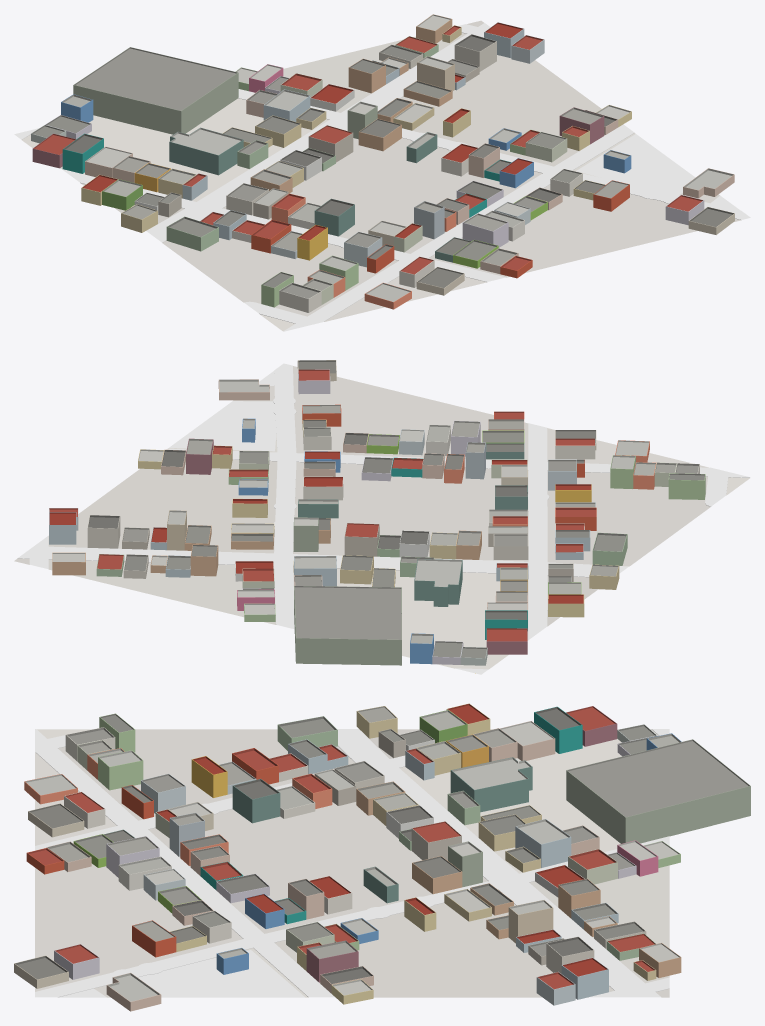
3 renders of one model, top to bottom at view 1: azimuth 30°, elevation 25°; view 2: azimuth 150°, elevation 25°; view 3: azimuth 270°, elevation 25°, orthographic. The views are drawn at different scales.
Parts seen in each view (by area): view 1: walls, roofs, ground, sidewalk, grass; view 2: ground, roofs, walls, sidewalk, grass; view 3: roofs, ground, walls, sidewalk, grass.
Part boxes in pixels (x1,y1,x2,y2): walls: (31, 19, 734, 312); roofs: (31, 14, 734, 302); ground: (22, 20, 740, 331); sidewalk: (14, 23, 750, 331); grass: (576, 134, 739, 210); ground: (14, 366, 749, 669); roofs: (49, 360, 705, 658); walls: (49, 361, 705, 665); sidewalk: (17, 363, 750, 674); grass: (169, 371, 276, 451); roofs: (14, 703, 750, 1002); ground: (35, 729, 669, 997); walls: (14, 709, 750, 1011); sidewalk: (35, 729, 669, 997); grass: (58, 950, 304, 997).
Size of what is drawn, in the model's own units: 273 by 13.37 by 290.
